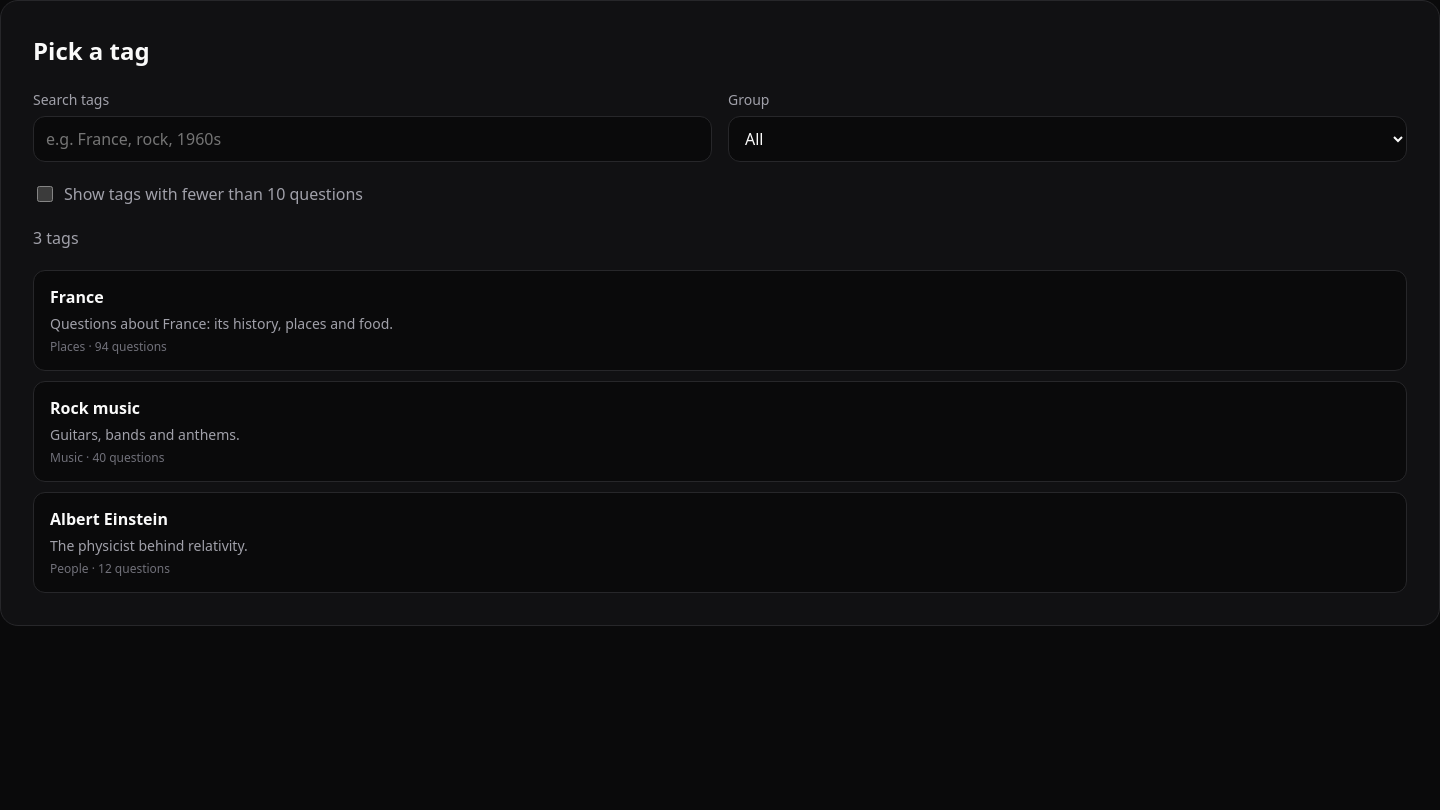
Test case: TagPicker › says when nothing matches
The image size is (1440, 810).
Step 1. Type "dinosaurs" into the search field labelled "Search tags" → (372, 139), box 33,116 -> 712,162
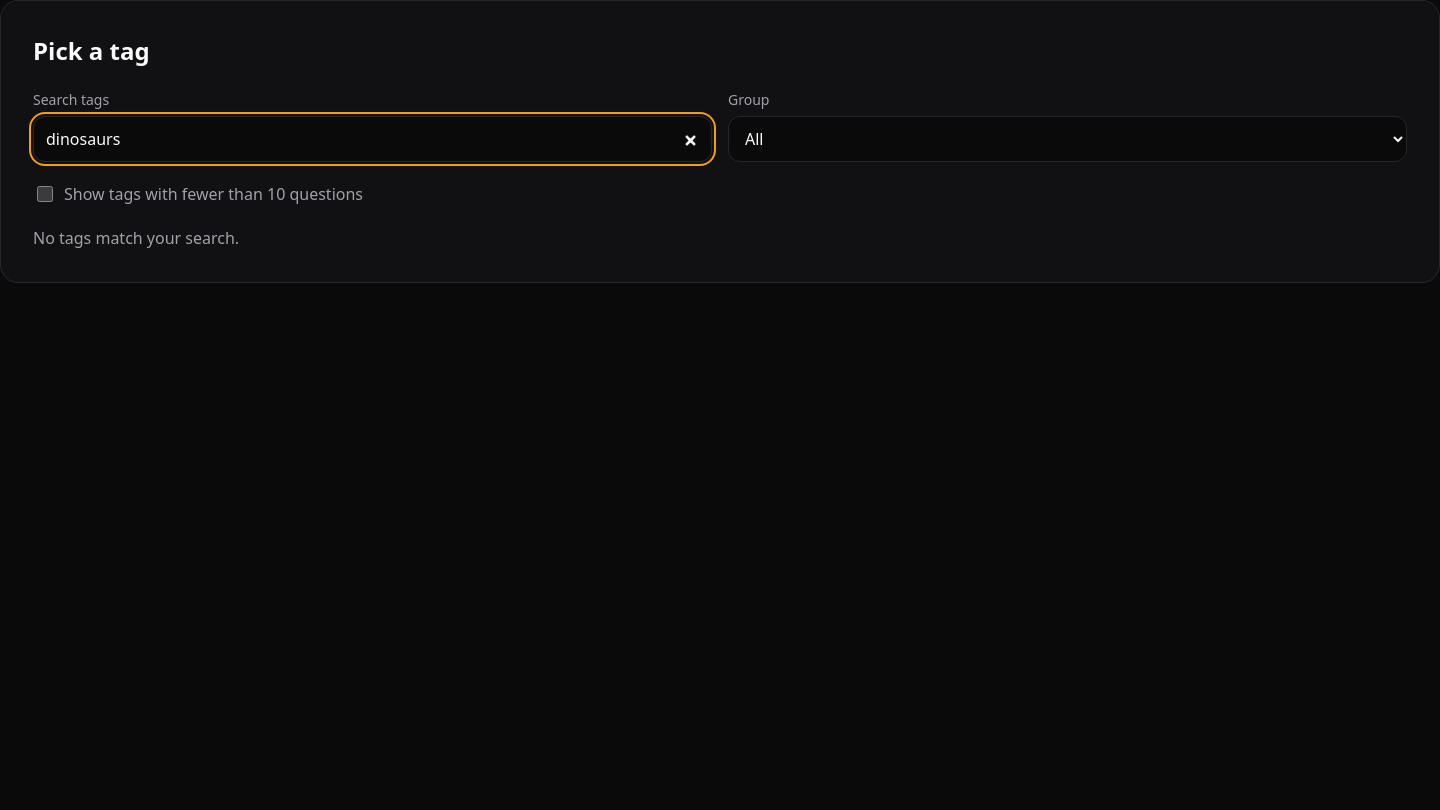
Check: the text "No tags match your search." is shown, box 33,227 -> 239,249
